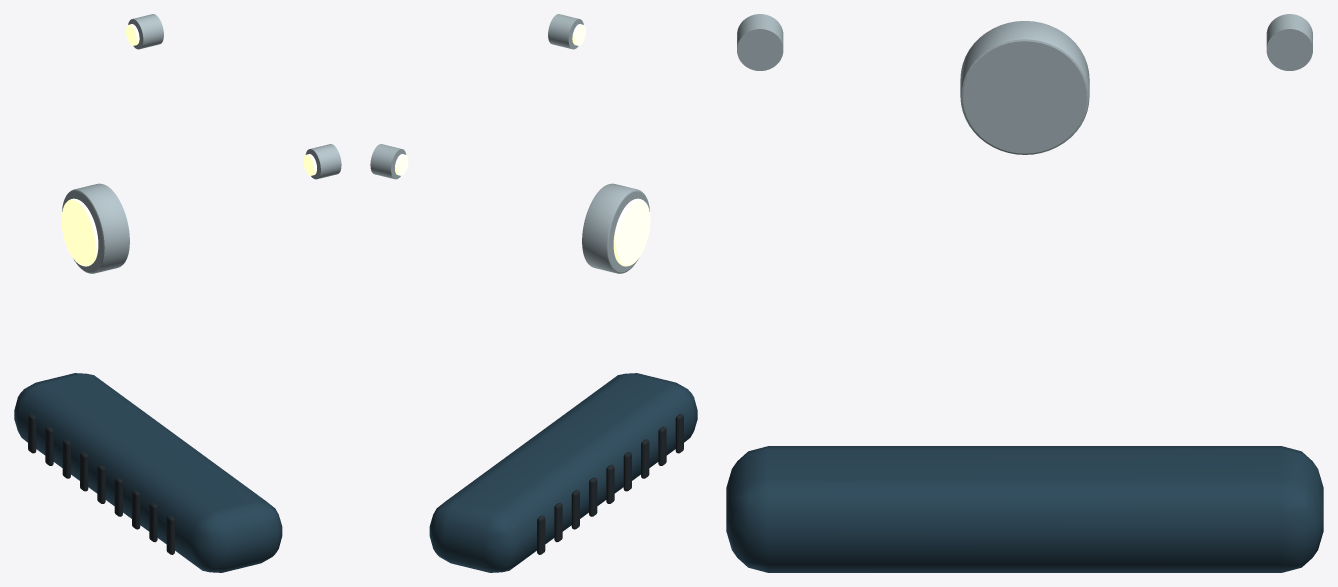
The model's file is fittings-and-pilot.glb.
3 renders of one model, left to right at view 1: azimuth 30°, elevation 25°; view 2: azimuth 150°, elevation 25°; view 3: azimuth 270°, elevation 25°, orthographic. The views are drawn at different scales.
Visible parts, largest first — view 1: Front pilot, Nose headlight bezel, Nose headlight lens, Marker lamp.001, Marker lamp; view 2: Front pilot, Nose headlight bezel, Nose headlight lens, Marker lamp, Marker lamp.001; view 3: Front pilot, Nose headlight bezel, Marker lamp, Marker lamp.001.
Part boxes in pixels (box(x1,y1,x2,y2)): Front pilot: box(14, 373, 282, 572); Nose headlight bezel: box(62, 183, 129, 273); Nose headlight lens: box(61, 198, 98, 266); Marker lamp.001: box(128, 14, 163, 49); Marker lamp: box(305, 144, 341, 179); Front pilot: box(429, 373, 697, 572); Nose headlight bezel: box(582, 183, 649, 273); Nose headlight lens: box(613, 198, 650, 266); Marker lamp: box(548, 14, 583, 49); Marker lamp.001: box(370, 144, 406, 179); Front pilot: box(726, 446, 1323, 572); Nose headlight bezel: box(960, 21, 1089, 154); Marker lamp: box(737, 14, 783, 70); Marker lamp.001: box(1266, 14, 1312, 70).
Size of the model in its own units: 0.89 by 2.04 by 1.85.
